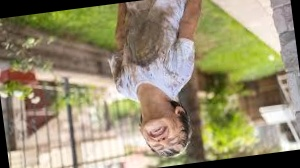earth: (124, 8, 167, 64), (113, 63, 124, 83)
